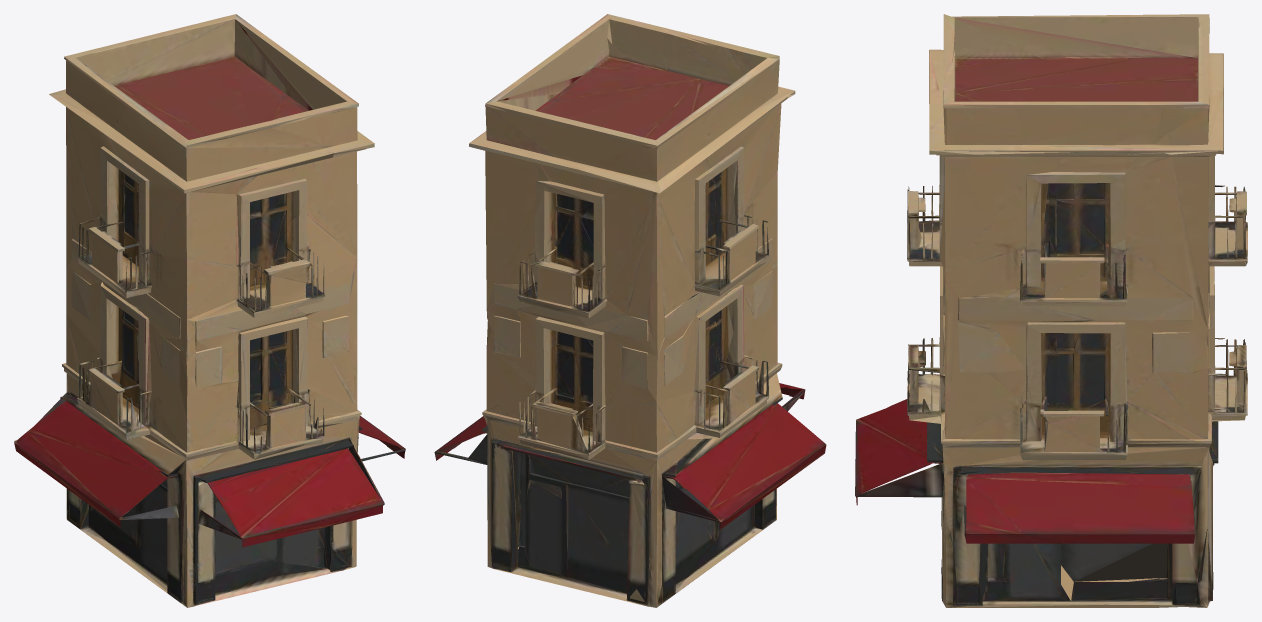
The model's file is burger_shop.glb.
3 renders of one model, left to right at view 1: azimuth 30°, elevation 25°; view 2: azimuth 150°, elevation 25°; view 3: azimuth 270°, elevation 25°, orthographic. The views are drawn at different scales.
Visible parts, largest first — view 1: Mesh_0; view 2: Mesh_0; view 3: Mesh_0.
Boxes of the visible parts, bbox=[...] form: Mesh_0: bbox=[14, 14, 405, 607]; Mesh_0: bbox=[434, 14, 826, 607]; Mesh_0: bbox=[855, 14, 1247, 607].
Size of the model in its own units: 5.82 by 9 by 6.36.
1 material, 1 textured.
